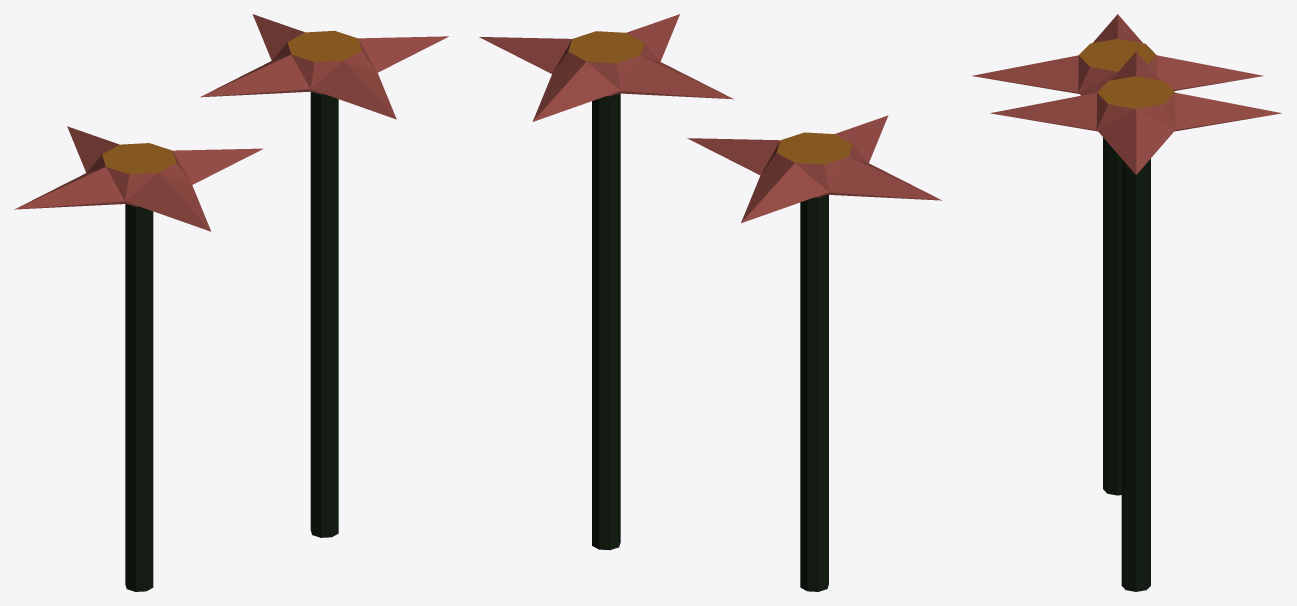
File: Flower_WildPink_Cluster_01.fbx
3 views of the same model, side by side, from view 1: azimuth 30°, elevation 25°; view 2: azimuth 150°, elevation 25°; view 3: azimuth 270°, elevation 25° (orthographic). The views are drawn at different scales.
Visible parts, largest first — view 1: Flower_WildPink_Cluster_01_Mesh; view 2: Flower_WildPink_Cluster_01_Mesh; view 3: Flower_WildPink_Cluster_01_Mesh.
Part boxes in pixels (box(x1,y1,x2,y2)): Flower_WildPink_Cluster_01_Mesh: box(14, 14, 448, 591); Flower_WildPink_Cluster_01_Mesh: box(479, 14, 941, 591); Flower_WildPink_Cluster_01_Mesh: box(972, 14, 1281, 591).
Bounding box in the file's own units: 0.32 × 0.334 × 0.1913.
Materials: 1 (1 with a texture image).
